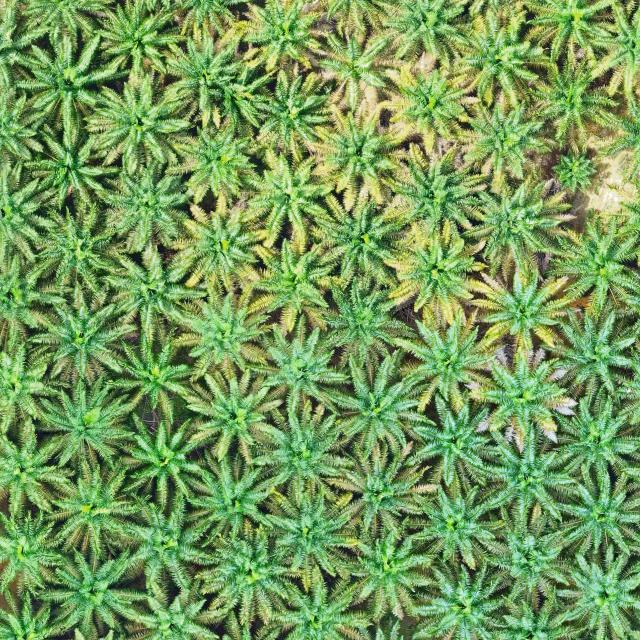Tree: (324, 345, 444, 461), (20, 273, 144, 383), (255, 482, 371, 598), (472, 422, 596, 528), (384, 307, 509, 412), (380, 137, 494, 249), (462, 168, 576, 279), (250, 391, 360, 505), (467, 341, 579, 451), (159, 26, 274, 133), (30, 371, 142, 480), (15, 33, 127, 142), (476, 496, 586, 605), (178, 362, 289, 470), (96, 236, 212, 336), (41, 455, 152, 559), (328, 440, 442, 539), (166, 285, 278, 385), (466, 263, 579, 362), (453, 92, 561, 194), (171, 198, 275, 302), (190, 524, 298, 624), (340, 516, 439, 624), (90, 77, 200, 174), (308, 189, 417, 286), (180, 451, 289, 547), (39, 542, 149, 637), (401, 391, 501, 494), (119, 414, 216, 519), (545, 206, 640, 312), (317, 274, 416, 373), (538, 303, 640, 398), (121, 495, 225, 588), (405, 479, 510, 571), (247, 148, 340, 251), (454, 10, 551, 108), (103, 326, 204, 420), (409, 556, 521, 640), (246, 234, 342, 331), (95, 160, 198, 250), (167, 115, 266, 208), (536, 48, 629, 146), (261, 560, 374, 640), (316, 105, 412, 198), (246, 57, 338, 154), (33, 199, 127, 291), (0, 415, 82, 519), (313, 21, 412, 107), (26, 120, 120, 210), (546, 390, 640, 480), (256, 319, 350, 408), (556, 547, 640, 640), (0, 244, 72, 351), (398, 229, 486, 316), (230, 0, 330, 76), (96, 0, 187, 82), (390, 60, 485, 137), (562, 468, 640, 560), (122, 574, 228, 640), (0, 333, 67, 436), (0, 504, 70, 596), (0, 162, 58, 265), (484, 593, 585, 640), (0, 85, 49, 170), (0, 0, 46, 87), (1, 593, 76, 640), (550, 146, 599, 198), (340, 616, 430, 640), (154, 207, 192, 253), (592, 479, 608, 514)
